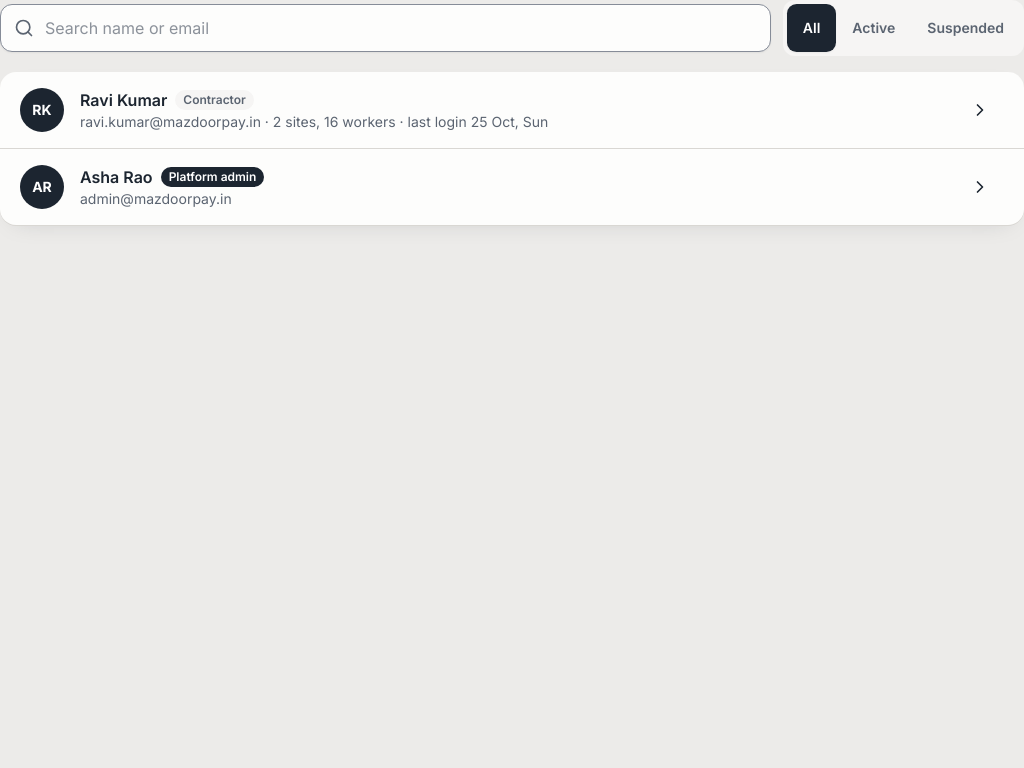
Test: Admin users › explains instead of offering Suspend on a shared demo account
Click the button named "View Ravi Kumar".
click(980, 110)  # box [956,86,1004,134]
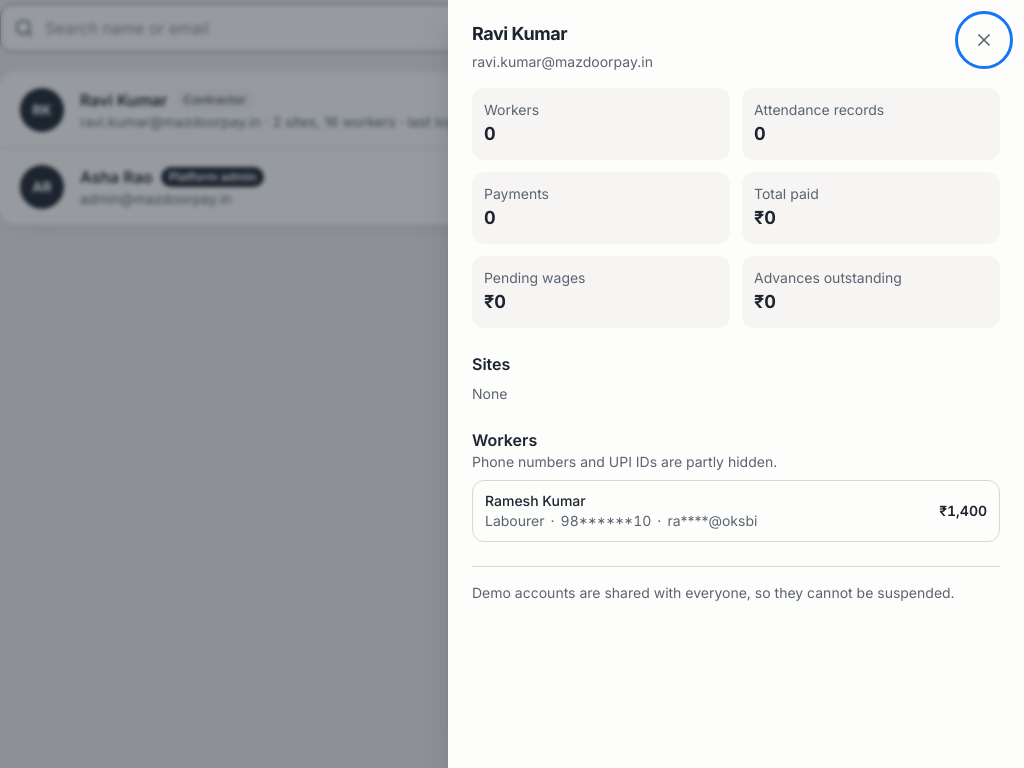
Check: the text "Demo accounts are shared with everyone" is shown, box [472,584,955,601]
